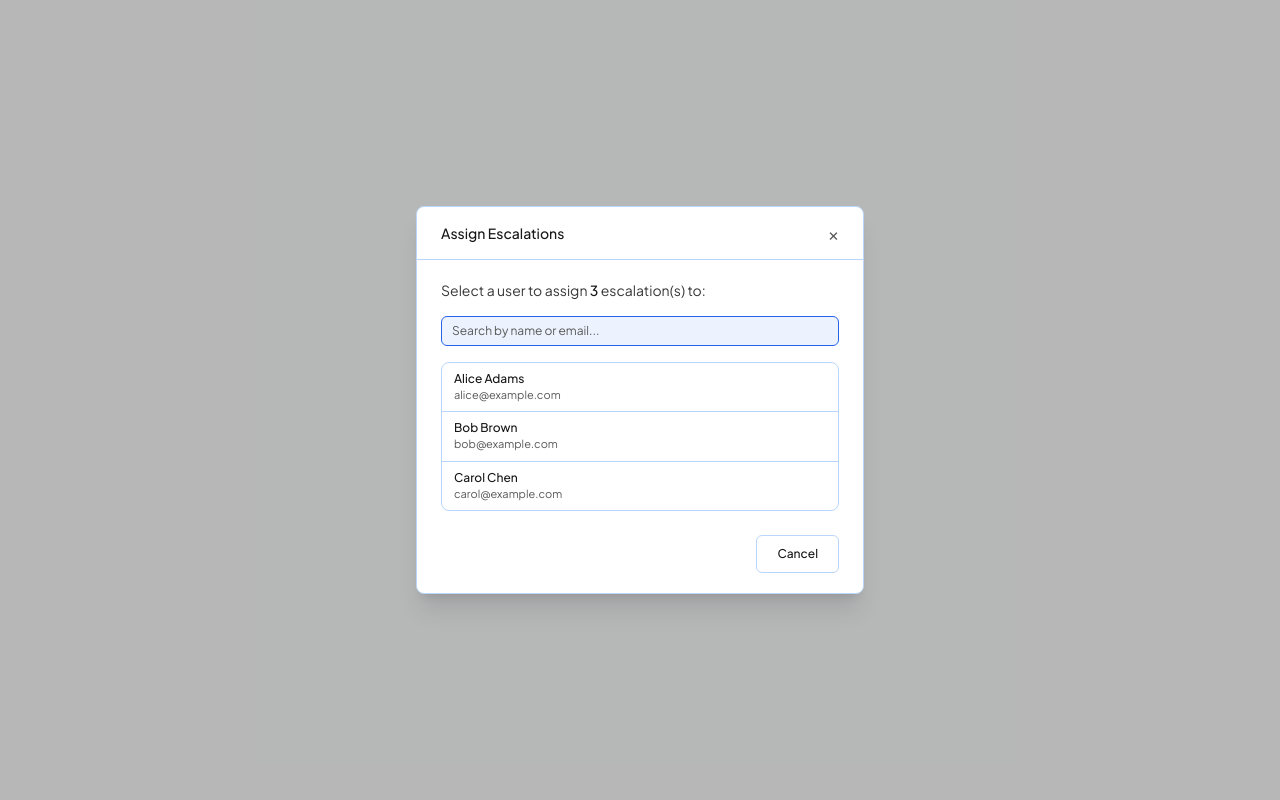
Test: BulkAssignModal › advances to duration step on user click
Click the text "Alice Adams" at (489, 378), box 454,371 -> 524,386
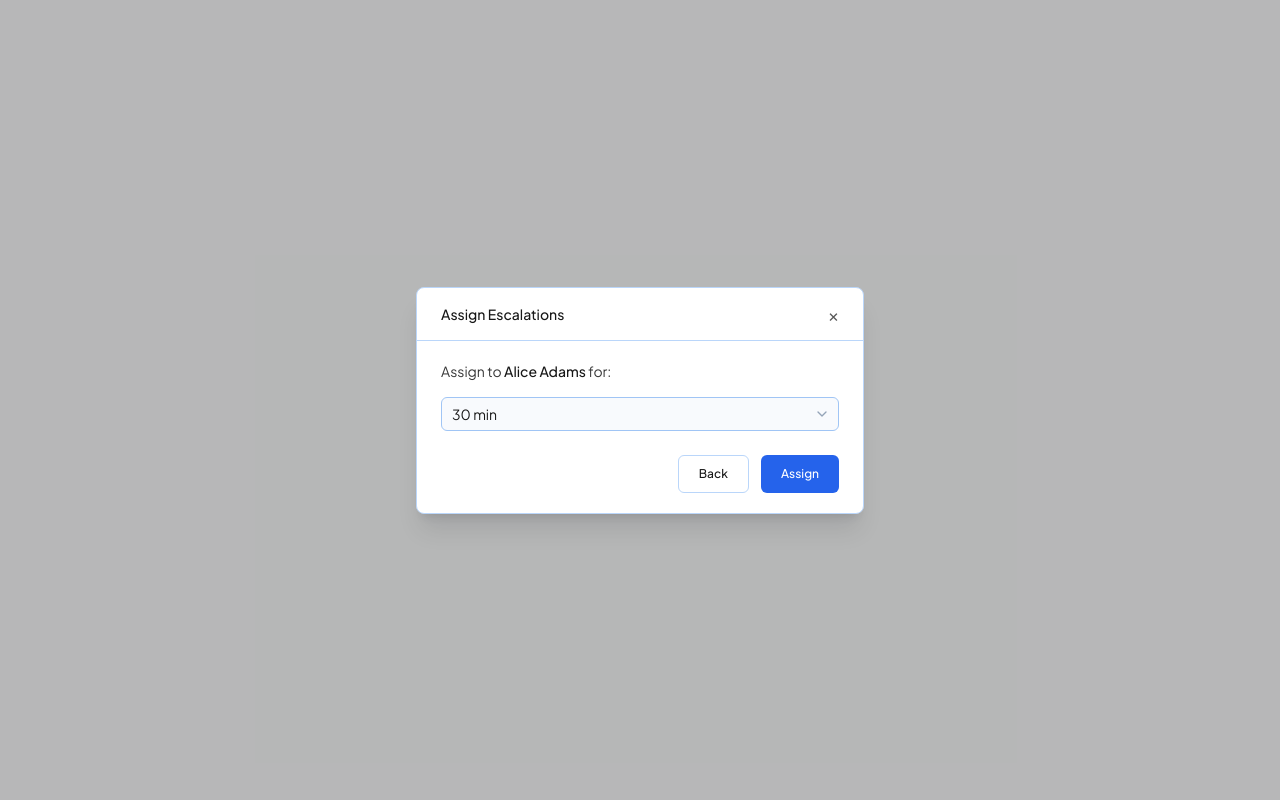
expect the text "Alice Adams" is shown: met, box 504,362 -> 586,380
expect the button "Back" is shown: met, box 678,454 -> 749,492
expect the button "Assign" is shown: met, box 761,454 -> 839,492
